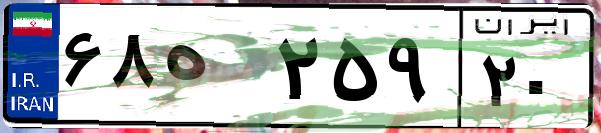0: (525, 38, 570, 115)
2: (270, 28, 330, 110), (475, 38, 525, 113)
5: (330, 28, 385, 110)
6: (57, 26, 110, 100)
8: (110, 28, 158, 98)
9: (385, 28, 445, 110)
ه: (158, 20, 270, 120)
